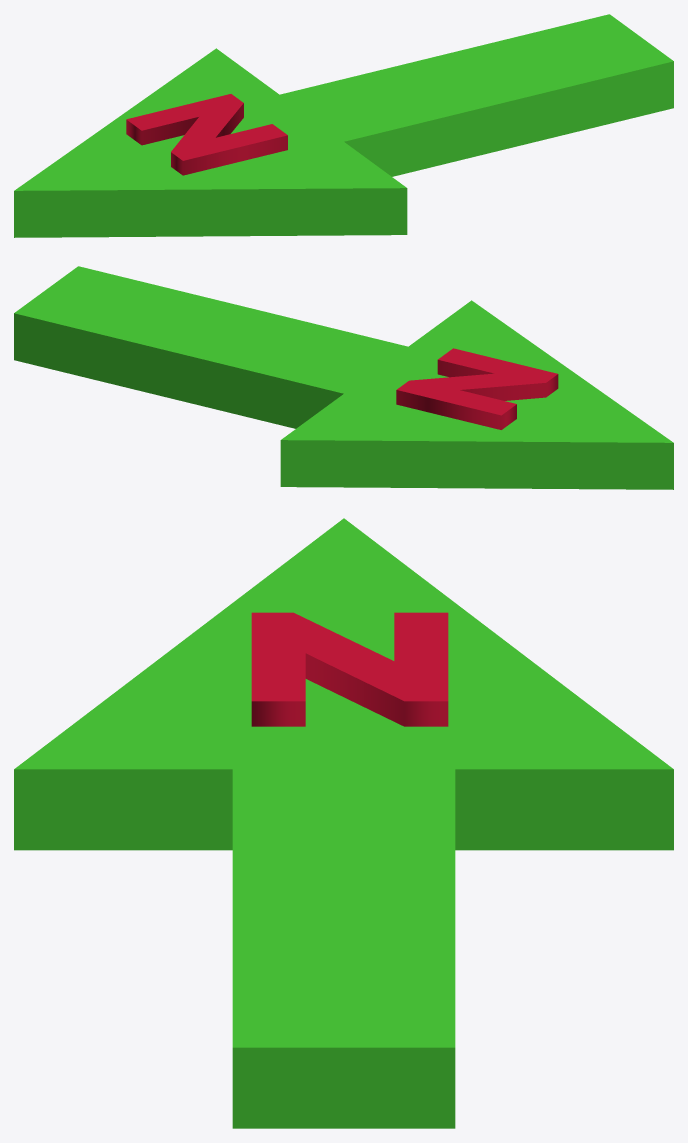
Rendered from NorthArrow.fbx.
3 renders of one model, top to bottom at view 1: azimuth 30°, elevation 25°; view 2: azimuth 150°, elevation 25°; view 3: azimuth 270°, elevation 25°, orthographic. The views are drawn at different scales.
Parts seen in each view (by area): view 1: Cube; view 2: Cube; view 3: Cube.
Boxes of the visible parts, x1=… form: Cube: x1=14, y1=14, x2=673, y2=237; Cube: x1=14, y1=266, x2=673, y2=489; Cube: x1=14, y1=518, x2=673, y2=1128.
Size of the model in its own units: 380 by 35.71 by 200.
